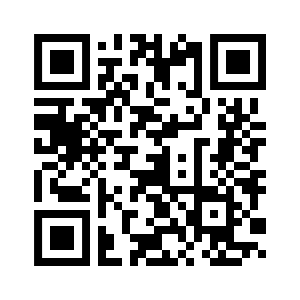fingerprint: (174, 150, 248, 207), (42, 45, 84, 81), (43, 219, 81, 258)
rec1: (211, 34, 267, 87)
